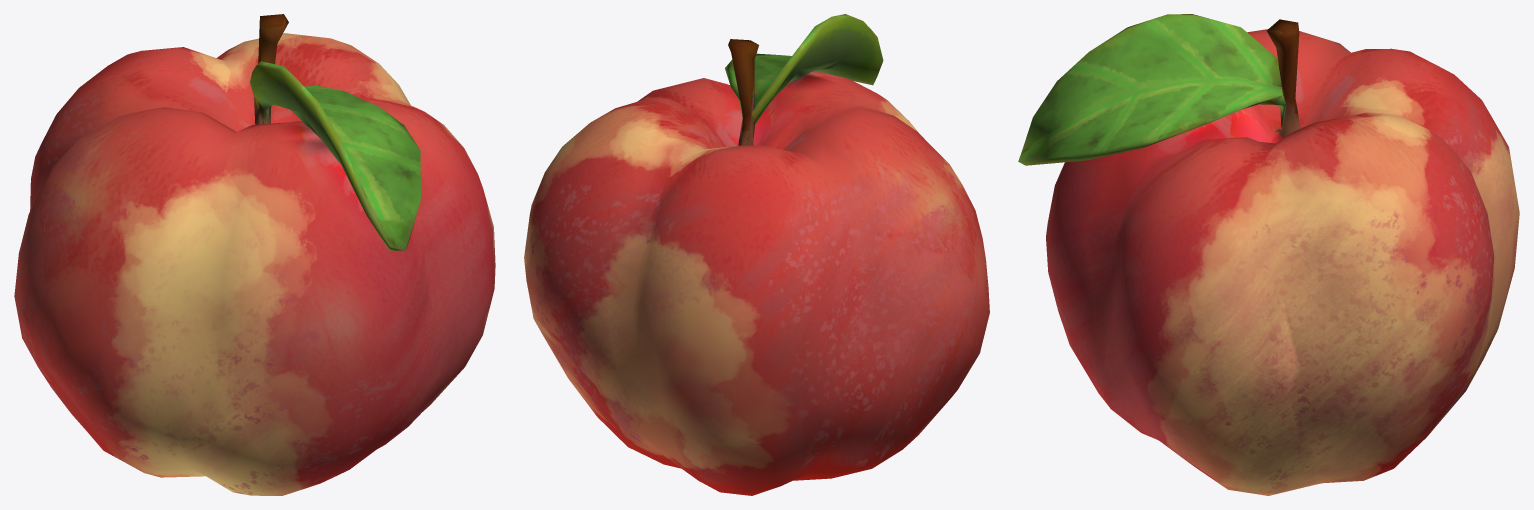
File: peachWithLeaf.fbx
3 views of the same model, side by side, from view 1: azimuth 30°, elevation 25°; view 2: azimuth 150°, elevation 25°; view 3: azimuth 270°, elevation 25° (orthographic). The views are drawn at different scales.
Parts seen in each view (by area): view 1: peach; view 2: peach; view 3: peach.
Part boxes in pixels (left/top/right/bottom): peach: left=14, top=14, right=495, bottom=495; peach: left=524, top=14, right=989, bottom=495; peach: left=1018, top=14, right=1519, bottom=495.
Bounding box in the file's own units: 7.08 × 7.13 × 7.23.
